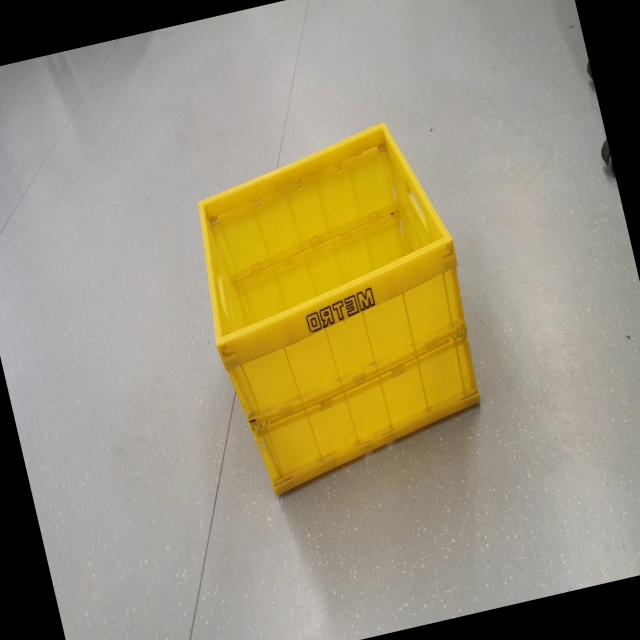box: (167, 103, 508, 524)
